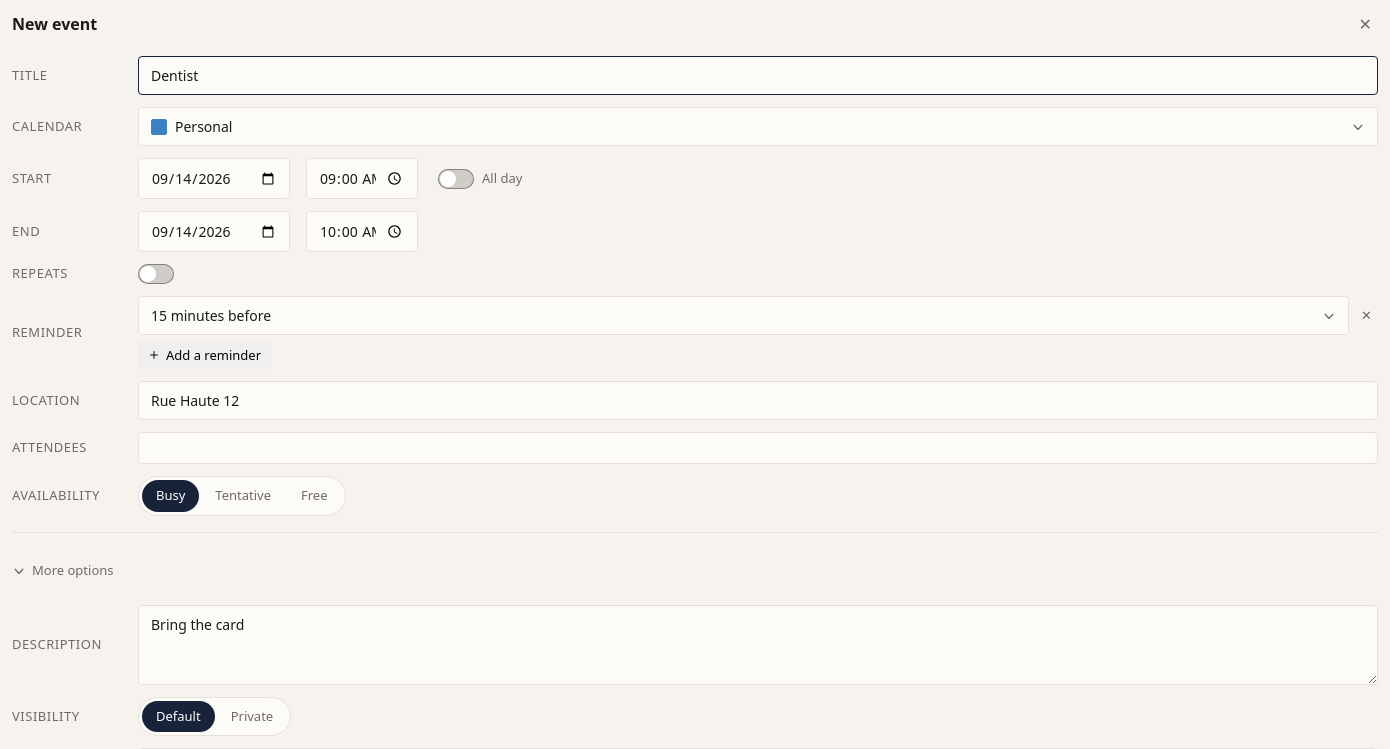
Test case: EventEditor › carries the end along when the start moves
The image size is (1390, 749).
In the date field named "Start date": (214, 178) [138,158,290,199], type "2026-09-20"
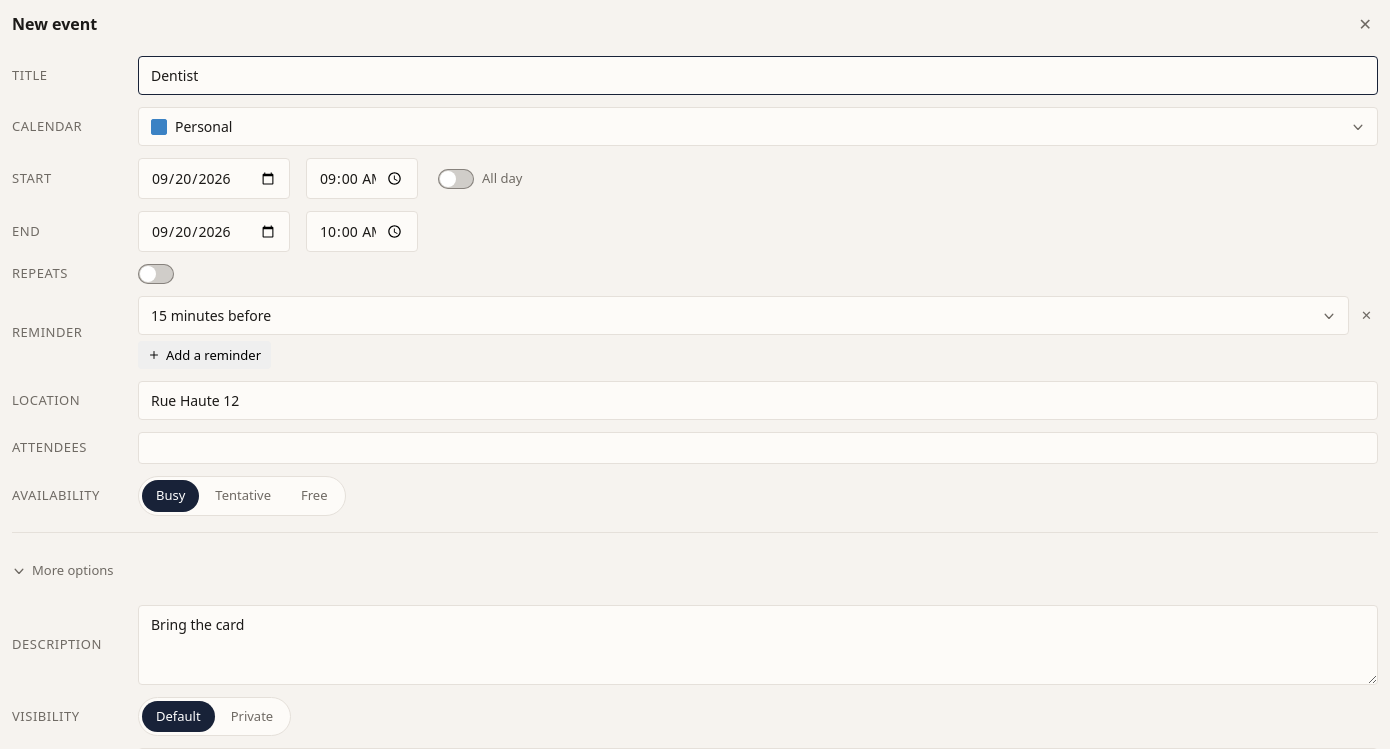
Expected: the time field named "End time" holds "10:00", [306,211,418,252]
Expected: the date field named "End date" holds "2026-09-20", [138,211,290,252]
